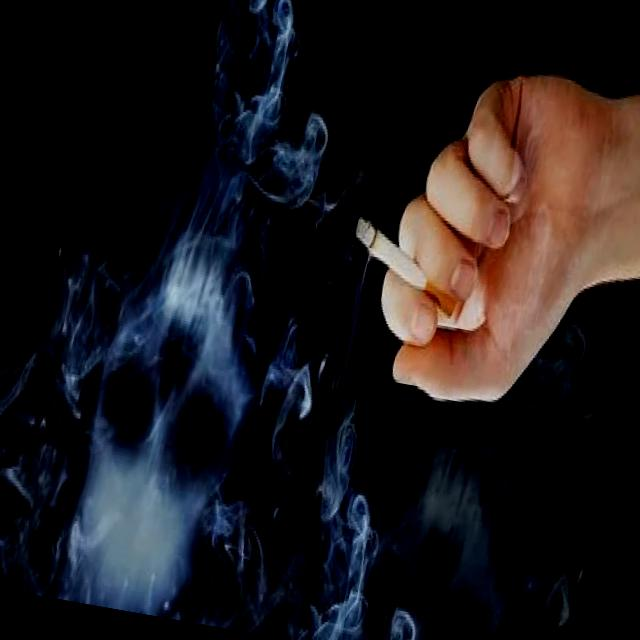cigarette: (340, 210, 480, 327)
